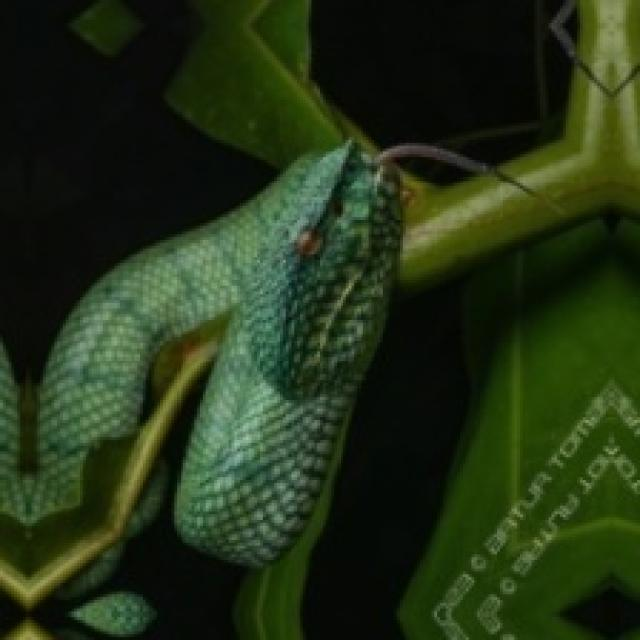north ph temple pitviper: (0, 140, 397, 574)
